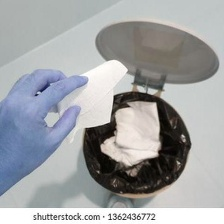tissue: (41, 56, 131, 148), (95, 95, 166, 171)
